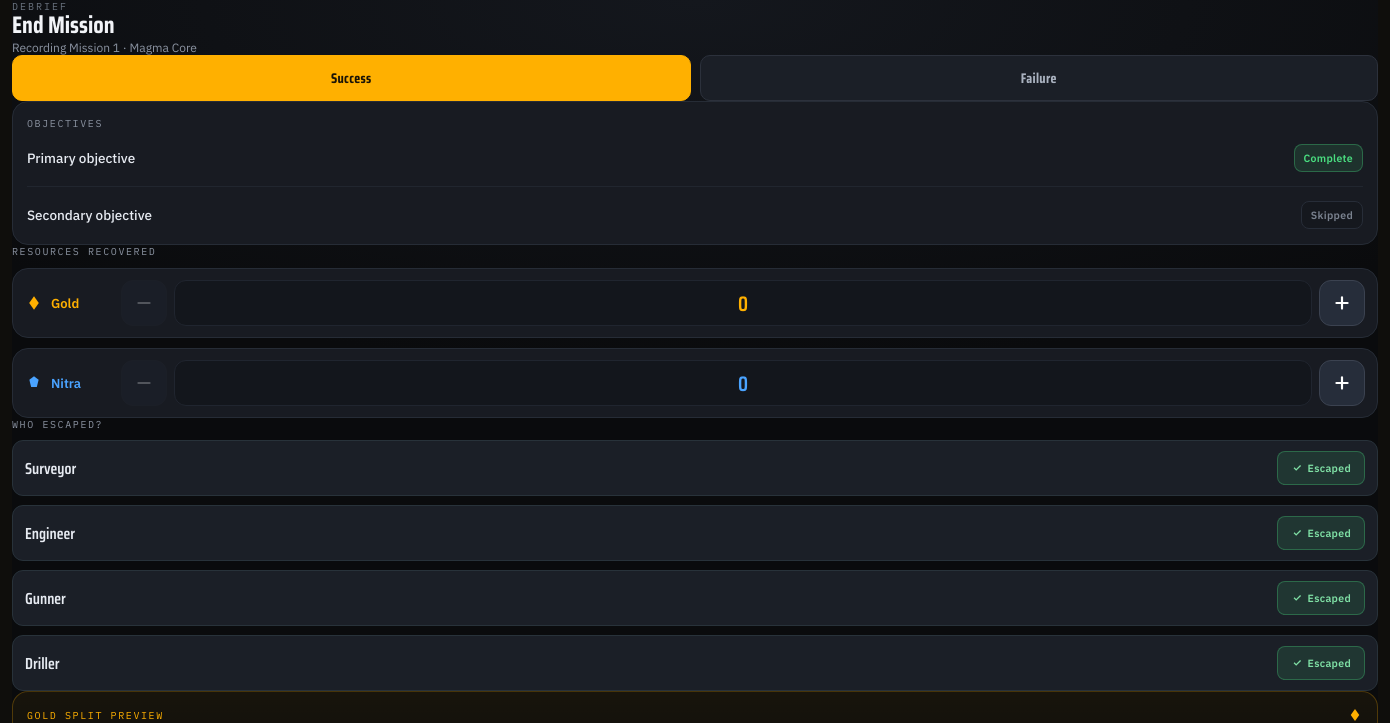
it: EndMissionScreen › increments gold and nitra steppers
The width and height of the screenshot is (1390, 723).
Click the button named "increase gold".
click(1342, 303)  # box [1319,280,1365,326]
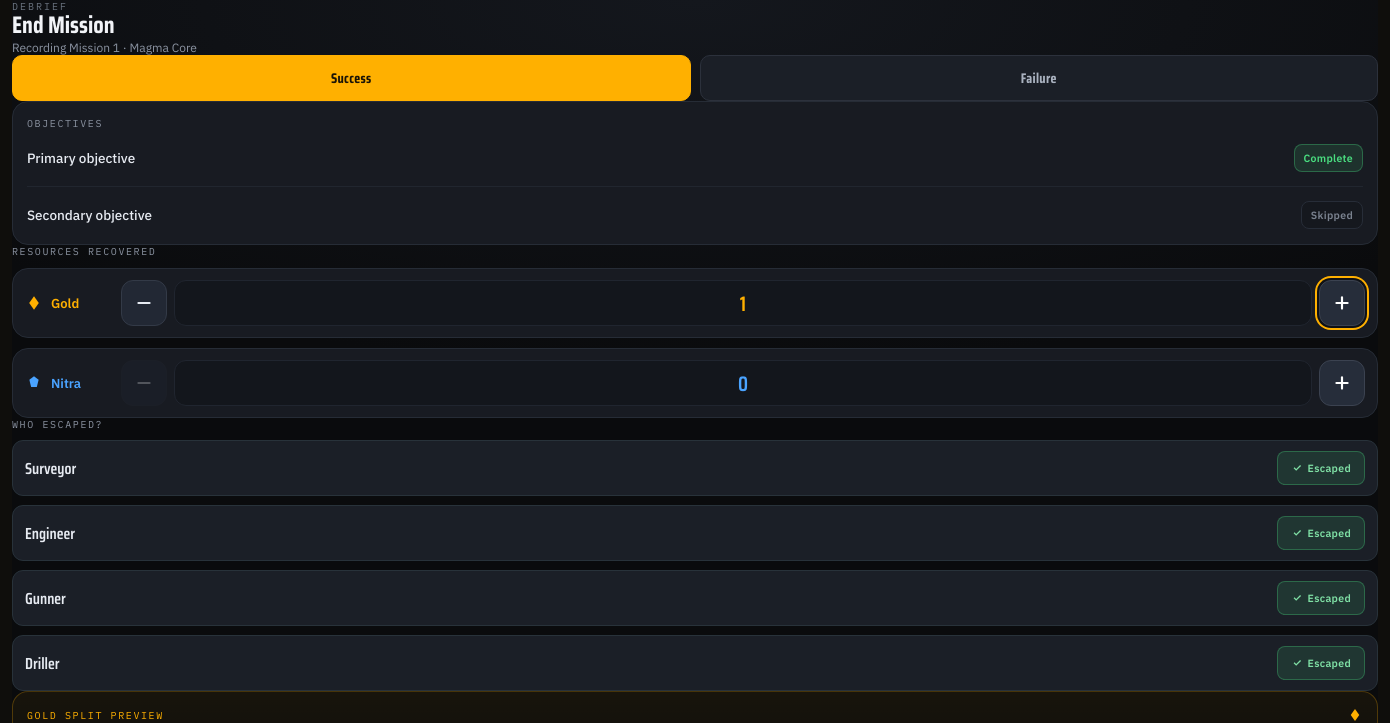
Click the button named "increase gold".
click(1342, 303)  # box [1319,280,1365,326]
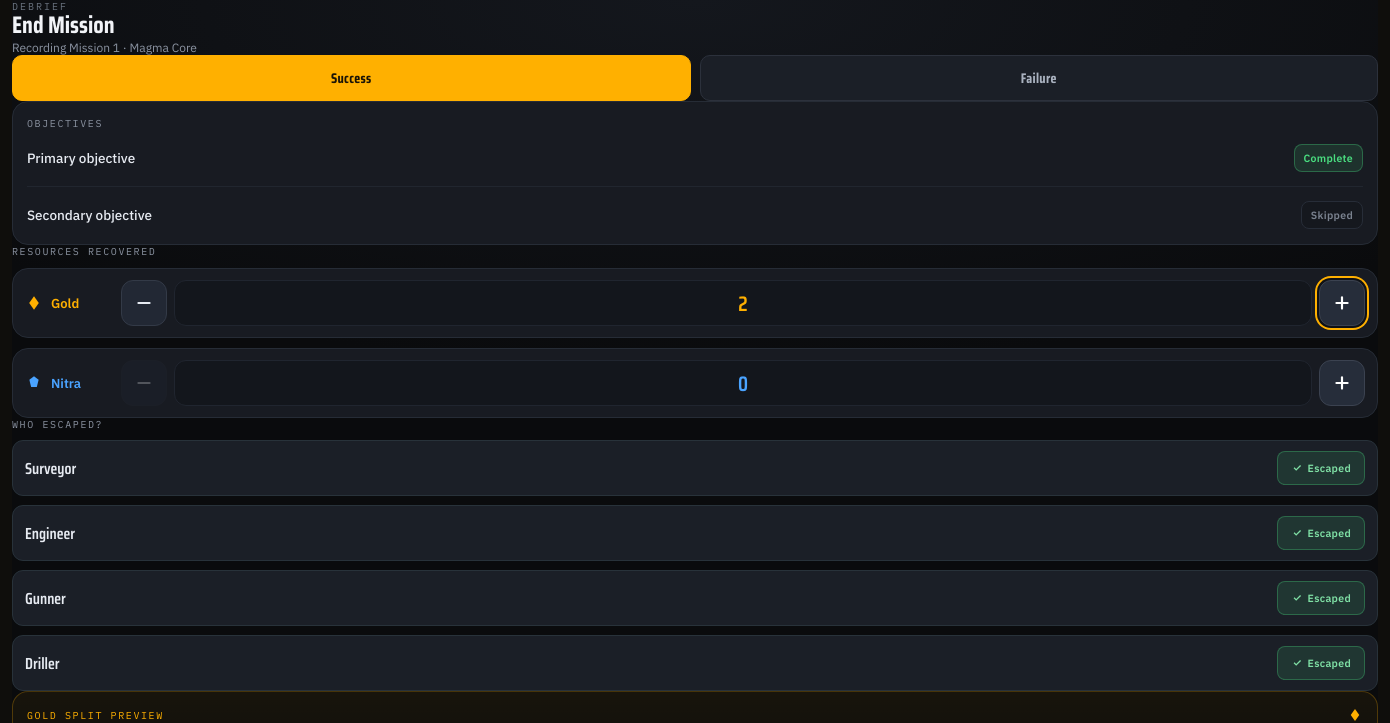
Click the button named "increase nitra".
click(1342, 383)  # box [1319,360,1365,406]
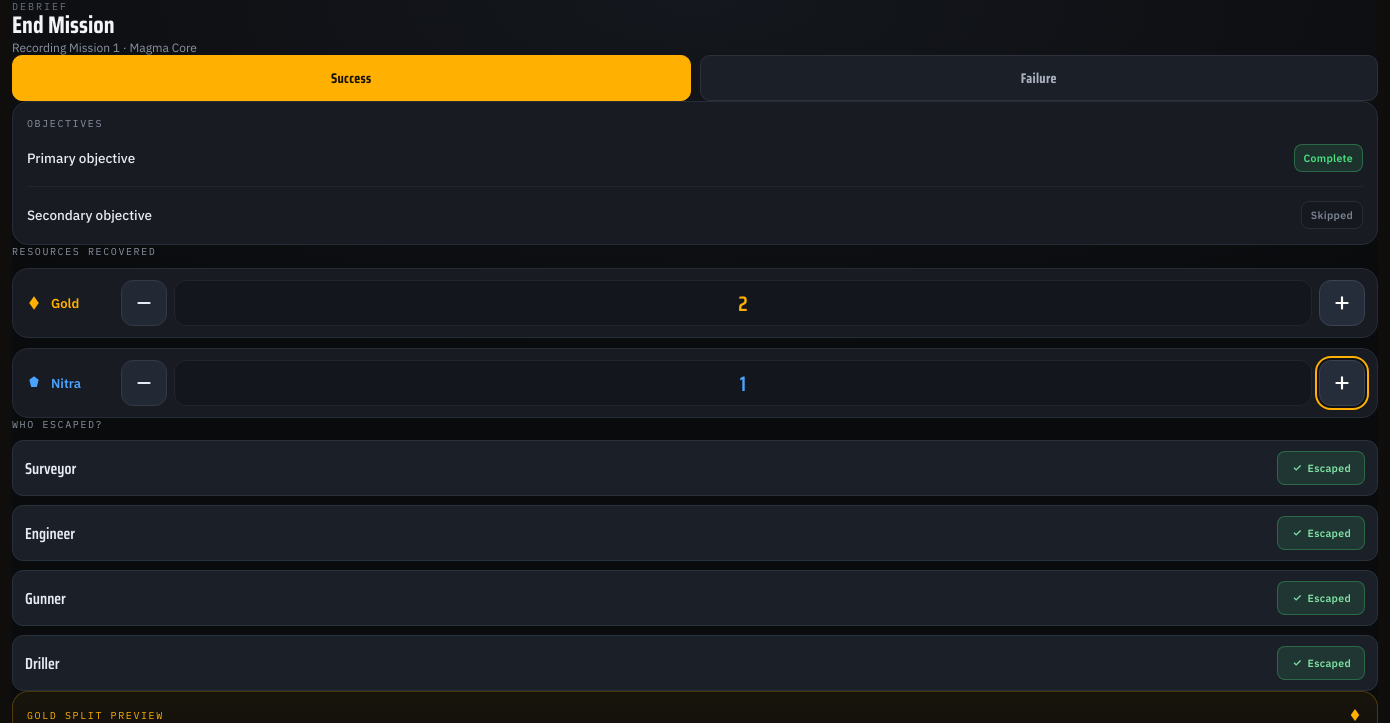
Result: the element named "gold" reads "2" at [738,287,748,320]
Result: the element named "nitra" reads "1" at [740,367,746,400]
